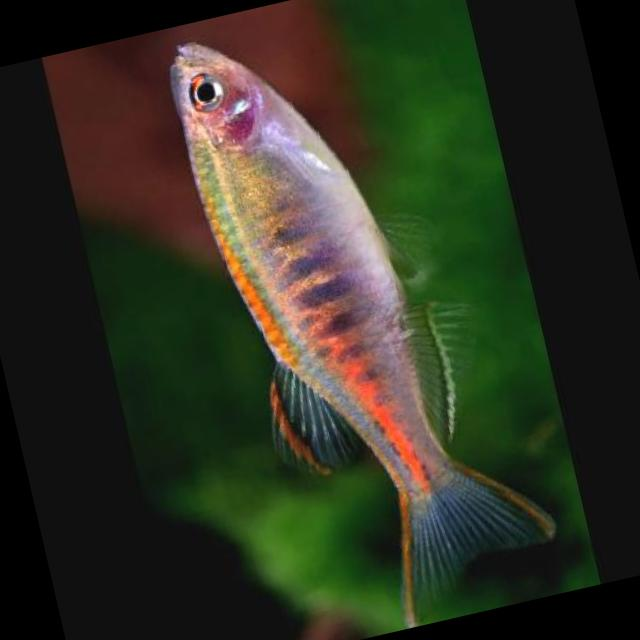ZebraFish: (158, 0, 573, 640)
